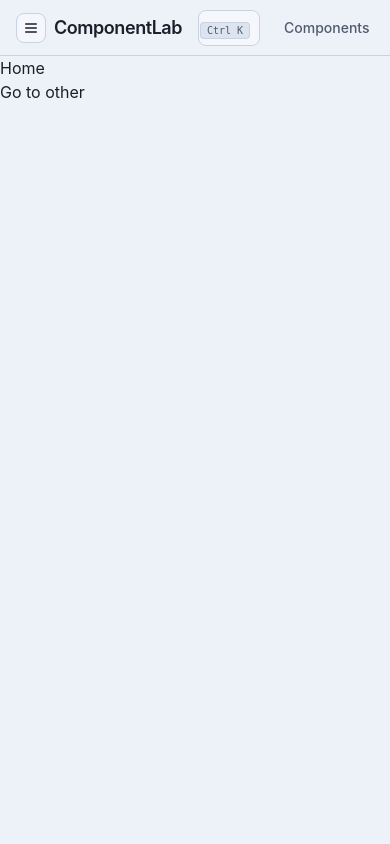
Test: Responsive Layout and Mobile Drawer › closes mobile drawer on route change
This screenshot has width=390, height=844.
Click the button named "Open navigation menu": point(31, 28) 16,12 -> 46,42
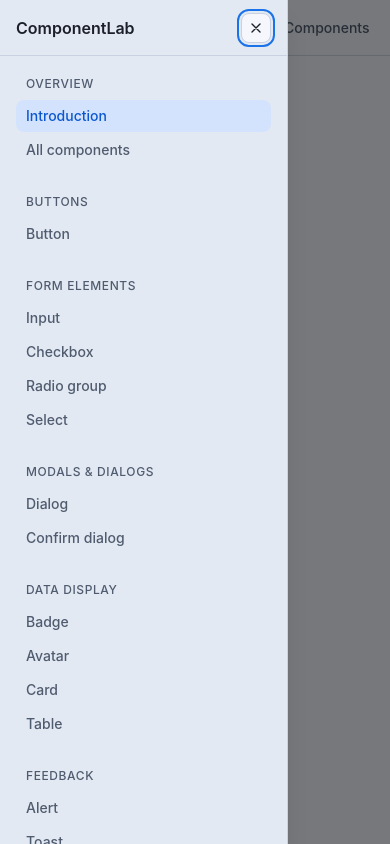
Check: the dialog is shown
Check: the link to "/components/button" is shown
Click the link to "/components/button": point(48, 234) 26,225 -> 70,242
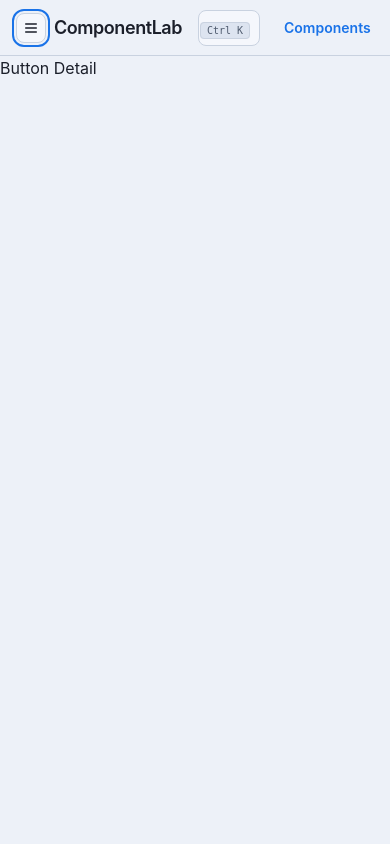
Check: the dialog is gone
